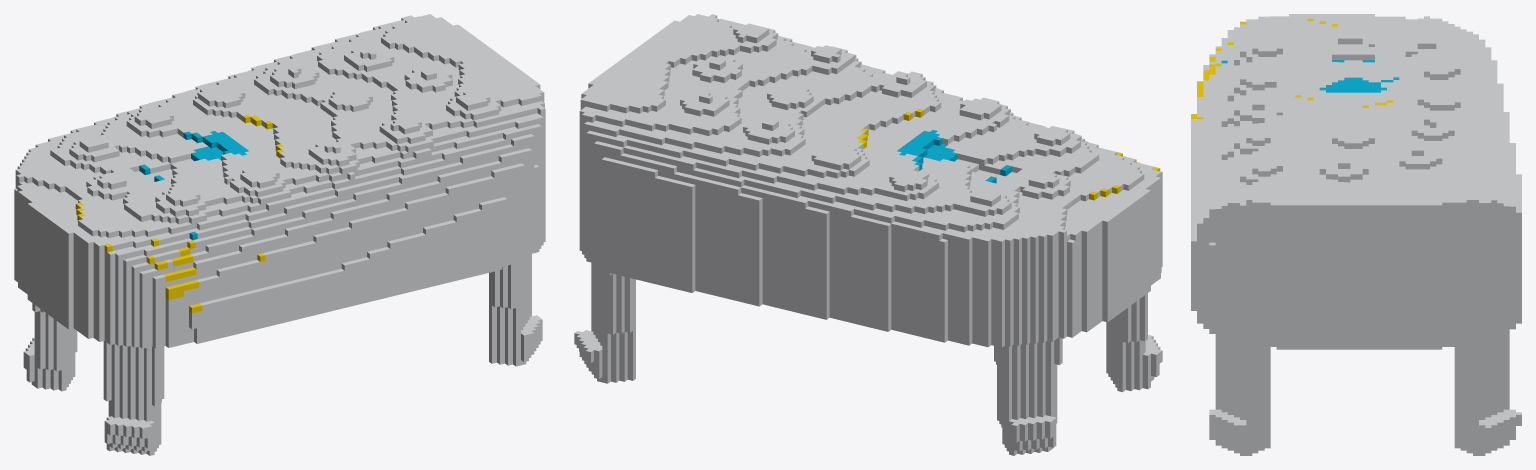
The picture shows the model from 3 angles, left to right: view 1: azimuth 30°, elevation 25°; view 2: azimuth 150°, elevation 25°; view 3: azimuth 270°, elevation 25°; orthographic projection. The views are drawn at different scales.
Parts seen in each view (by area): view 1: =>[0:1:1:1235], =>[0:1:1:317], =>[0:1:1:689], =>[0:1:1:261], =>[0:1:1:1238], =>[0:1:1:707], =>[0:1:1:687], =>[0:1:1:464], =>[0:1:1:693], =>[0:1:1:708], =>[0:1:1:1239], =>[0:1:1:761] (+34 smaller); view 2: =>[0:1:1:593], =>[0:1:1:1343], =>[0:1:1:1142], =>[0:1:1:1156], =>[0:1:1:717], =>[0:1:1:317], =>[0:1:1:261], =>[0:1:1:1251], =>[0:1:1:2111], =>[0:1:1:708], =>[0:1:1:464], =>[0:1:1:1420] (+26 smaller); view 3: =>[0:1:1:1029], =>[0:1:1:590], =>[0:1:1:261], =>[0:1:1:589], =>[0:1:1:728], =>[0:1:1:727], =>[0:1:1:1735], =>[0:1:1:1736], =>[0:1:1:464], =>[0:1:1:591], =>[0:1:1:1418], =>[0:1:1:2148] (+58 smaller).
Part boxes in pixels (<box>): =>[0:1:1:1235]: <box>197,238,502,343</box>; =>[0:1:1:317]: <box>27,204,68,329</box>; =>[0:1:1:689]: <box>199,247,341,303</box>; =>[0:1:1:261]: <box>410,14,541,100</box>; =>[0:1:1:1238]: <box>202,232,502,310</box>; =>[0:1:1:707]: <box>73,233,88,338</box>; =>[0:1:1:687]: <box>504,165,524,238</box>; =>[0:1:1:464]: <box>222,77,324,147</box>; =>[0:1:1:693]: <box>387,206,422,241</box>; =>[0:1:1:708]: <box>18,192,32,294</box>; =>[0:1:1:1239]: <box>344,227,502,270</box>; =>[0:1:1:761]: <box>80,207,140,231</box>; =>[0:1:1:593]: <box>601,165,692,292</box>; =>[0:1:1:1343]: <box>695,185,759,306</box>; =>[0:1:1:1142]: <box>762,198,826,319</box>; =>[0:1:1:1156]: <box>829,211,888,331</box>; =>[0:1:1:717]: <box>891,229,944,342</box>; =>[0:1:1:317]: <box>1107,190,1150,321</box>; =>[0:1:1:261]: <box>581,14,718,104</box>; =>[0:1:1:1251]: <box>948,234,969,345</box>; =>[0:1:1:2111]: <box>972,237,988,347</box>; =>[0:1:1:708]: <box>1087,221,1102,331</box>; =>[0:1:1:464]: <box>783,94,897,169</box>; =>[0:1:1:1420]: <box>991,239,1001,347</box>; =>[0:1:1:1029]: <box>1276,205,1442,349</box>; =>[0:1:1:590]: <box>1442,202,1466,346</box>; =>[0:1:1:261]: <box>1246,189,1478,199</box>; =>[0:1:1:589]: <box>1252,269,1276,346</box>; =>[0:1:1:728]: <box>1466,200,1478,344</box>; =>[0:1:1:727]: <box>1240,205,1252,344</box>; =>[0:1:1:1735]: <box>1227,203,1239,341</box>; =>[0:1:1:1736]: <box>1479,203,1491,341</box>; =>[0:1:1:464]: <box>1283,110,1478,118</box>; =>[0:1:1:591]: <box>1252,202,1270,269</box>; =>[0:1:1:1418]: <box>1491,200,1497,339</box>; =>[0:1:1:2148]: <box>1497,203,1503,336</box>.
Size of the model in its own units: 39.22 by 20.69 by 23.27.
